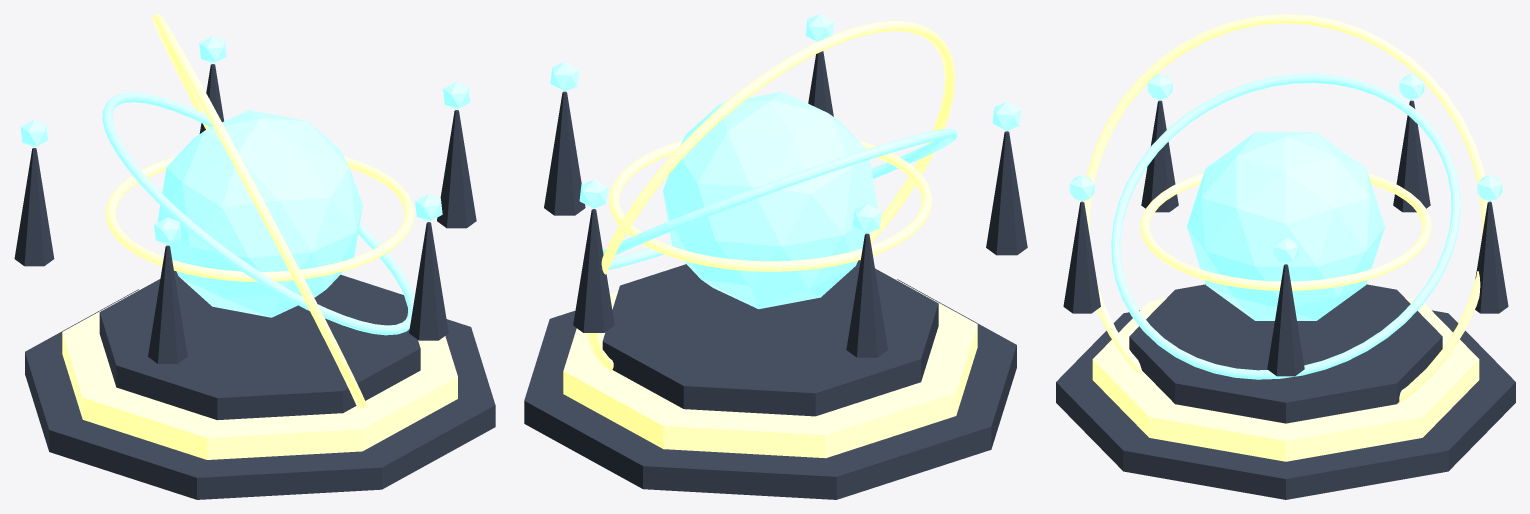
File: gpu-blender-v33.glb
3 views of the same model, side by side, from view 1: azimuth 30°, elevation 25°; view 2: azimuth 150°, elevation 25°; view 3: azimuth 270°, elevation 25° (orthographic). The views are drawn at different scales.
Parts seen in each view (by area): view 1: Cylinder.002, SovereignCore_agent-capsule-jail, Cylinder, Cylinder.001, Torus.001, Torus.002, Torus, Cone.002, Cone.004, Cone.003, Cone, Icosphere.001 (+5 smaller); view 2: Cylinder.002, SovereignCore_agent-capsule-jail, Cylinder, Cylinder.001, Torus.002, Torus, Torus.001, Cone.003, Cone.002, Cone, Cone.001, Cone.004 (+5 smaller); view 3: SovereignCore_agent-capsule-jail, Cylinder.002, Cylinder, Cylinder.001, Torus.001, Torus.002, Torus, Cone, Cone.004, Cone.001, Cone.002, Cone.003 (+5 smaller).
Boxes of the visible parts, x1,y1,x2,y2 form: Cylinder.002: [99, 271, 420, 420]; SovereignCore_agent-capsule-jail: [157, 110, 362, 317]; Cylinder: [25, 289, 495, 499]; Cylinder.001: [62, 279, 457, 459]; Torus.001: [102, 92, 414, 335]; Torus.002: [152, 14, 366, 407]; Torus: [105, 156, 414, 281]; Cone.002: [14, 148, 54, 266]; Cone.004: [409, 222, 448, 340]; Cone.003: [148, 245, 187, 363]; Cone: [437, 110, 476, 228]; Icosphere.001: [199, 36, 226, 63]; Cylinder.002: [602, 260, 938, 416]; SovereignCore_agent-capsule-jail: [663, 91, 877, 309]; Cylinder: [524, 279, 1016, 499]; Cylinder.001: [563, 269, 977, 458]; Torus.002: [587, 20, 954, 370]; Torus: [609, 140, 932, 271]; Torus.001: [603, 128, 957, 269]; Cone.003: [986, 131, 1027, 255]; Cone.002: [846, 233, 887, 357]; Cone: [544, 91, 585, 215]; Cone.001: [573, 209, 614, 332]; Cone.004: [808, 51, 833, 116]; SovereignCore_agent-capsule-jail: [1186, 132, 1385, 320]; Cylinder.002: [1129, 284, 1442, 423]; Cylinder: [1056, 310, 1515, 499]; Cylinder.001: [1092, 298, 1479, 461]; Torus.001: [1111, 73, 1460, 379]; Torus.002: [1083, 14, 1488, 403]; Torus: [1140, 173, 1431, 290]; Cone: [1267, 264, 1304, 376]; Cone.004: [1063, 201, 1100, 313]; Cone.001: [1475, 201, 1508, 313]; Cone.002: [1393, 100, 1430, 212]; Cone.003: [1141, 100, 1178, 212].
Size of the model in its own units: 4.41 by 3.72 by 4.4.
